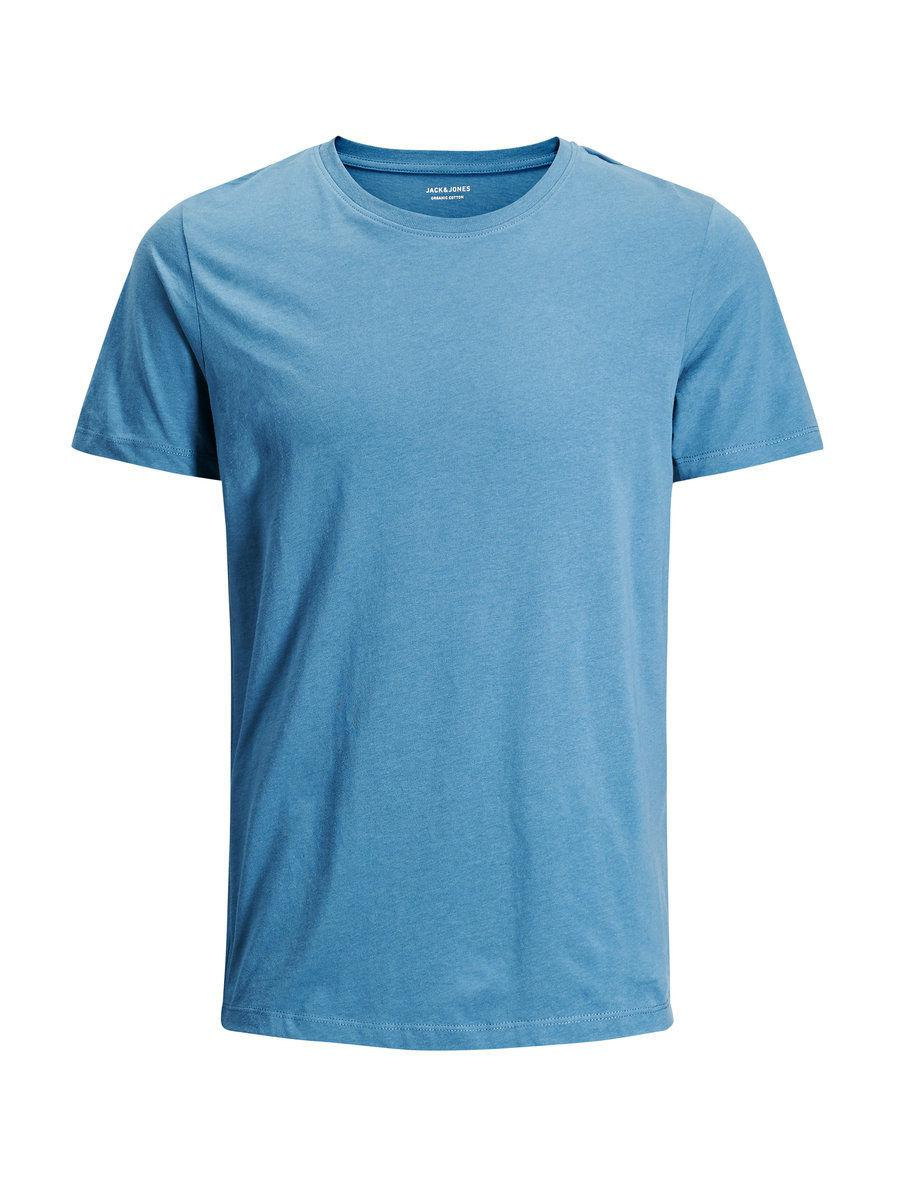teeshirt: (80, 87, 863, 1140)
